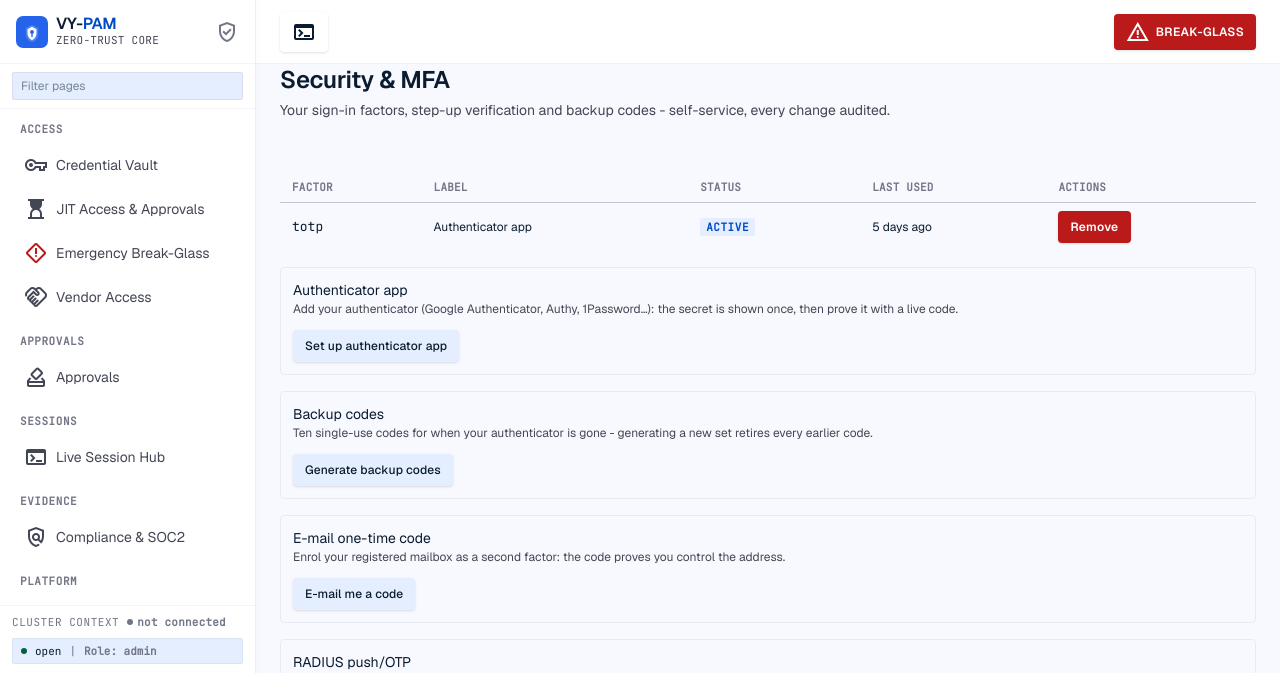
Test: SecurityPage (ADR-0017 batch 11.8, contract-shaped) › removes a factor and renders the server's own answer verbatim
The image size is (1280, 673).
Click the button "Remove". click: (1094, 227)
box: [1058, 211, 1130, 243]
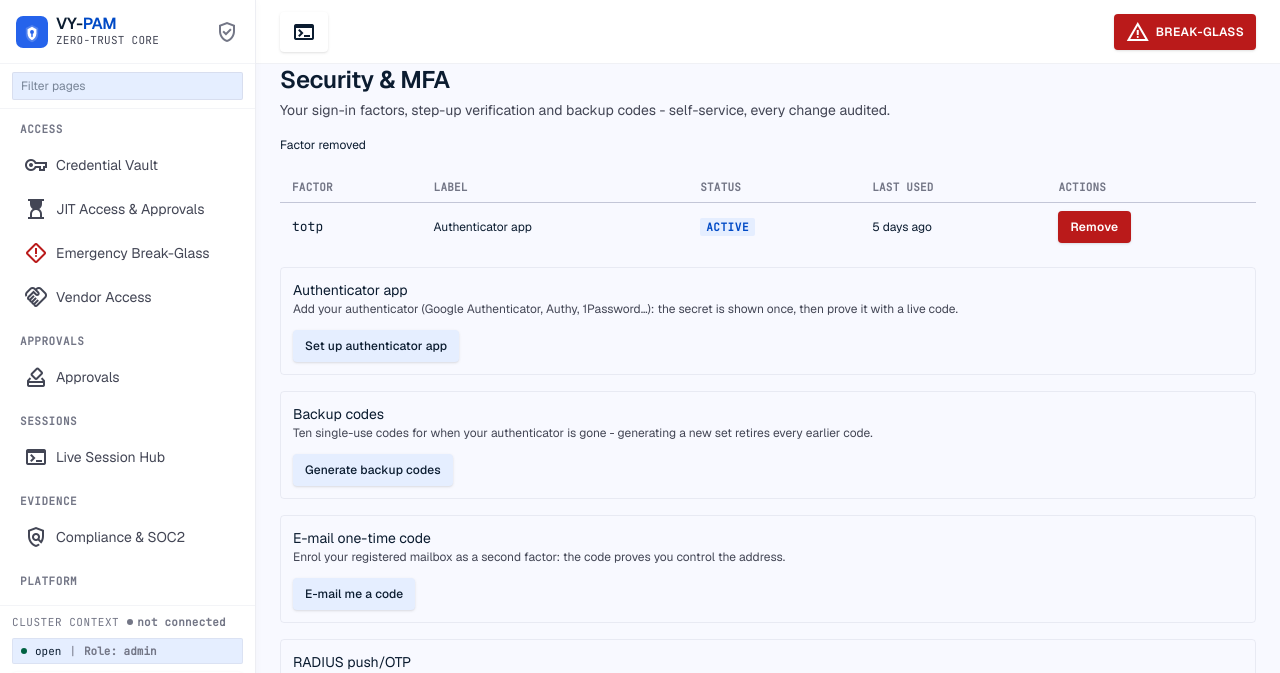
Now the text "Factor removed" is shown, box [280, 137, 366, 153]
